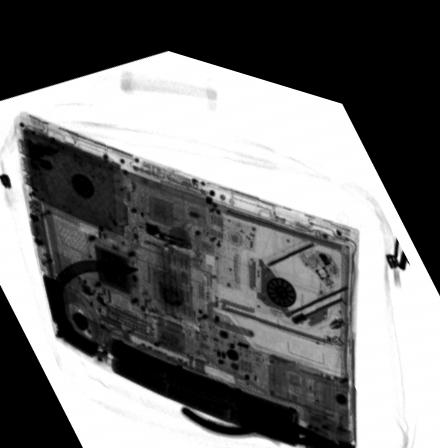Pliers: (176, 368, 313, 427)
